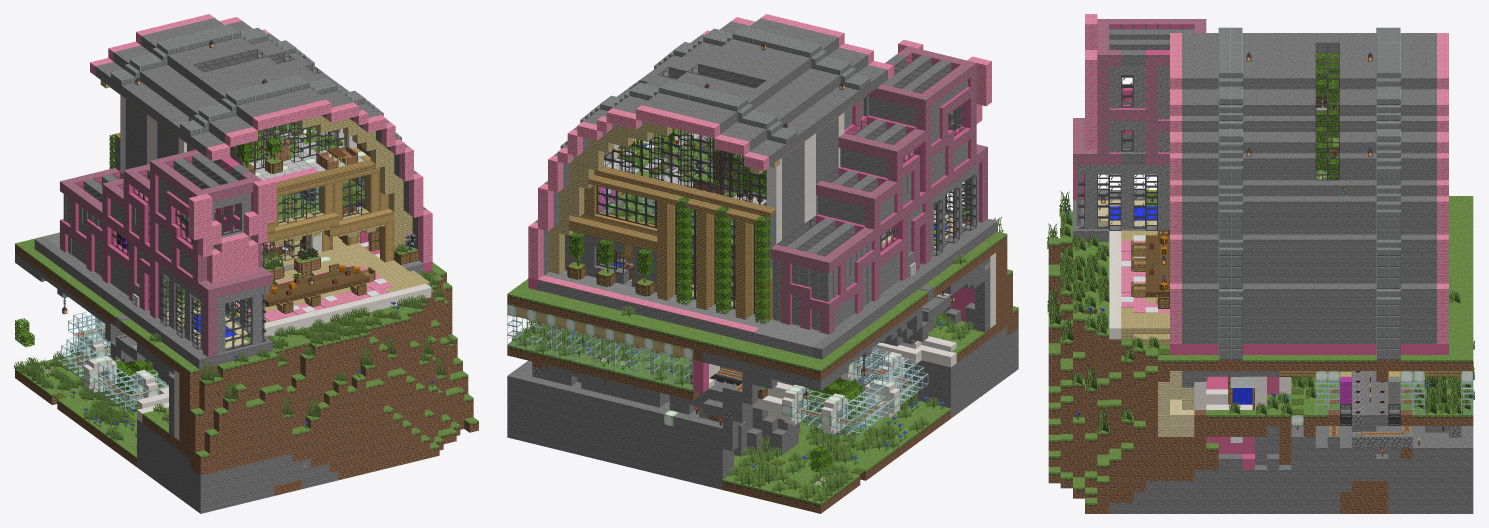
The model's file is Dushenka.fbx.
3 views of the same model, side by side, from view 1: azimuth 30°, elevation 25°; view 2: azimuth 150°, elevation 25°; view 3: azimuth 270°, elevation 25° (orthographic). The views are drawn at different scales.
Visible parts, largest first — view 1: MineShield3__140_112_-294_to_171_149_-260; view 2: MineShield3__140_112_-294_to_171_149_-260; view 3: MineShield3__140_112_-294_to_171_149_-260.
Part boxes in pixels (bbox=[...]): MineShield3__140_112_-294_to_171_149_-260: bbox=[14, 14, 478, 513]; MineShield3__140_112_-294_to_171_149_-260: bbox=[507, 14, 1018, 513]; MineShield3__140_112_-294_to_171_149_-260: bbox=[1047, 14, 1474, 513].
Bounding box in the file's own units: 3222 × 3469 × 3526.
Materials: 1 (1 with a texture image).
